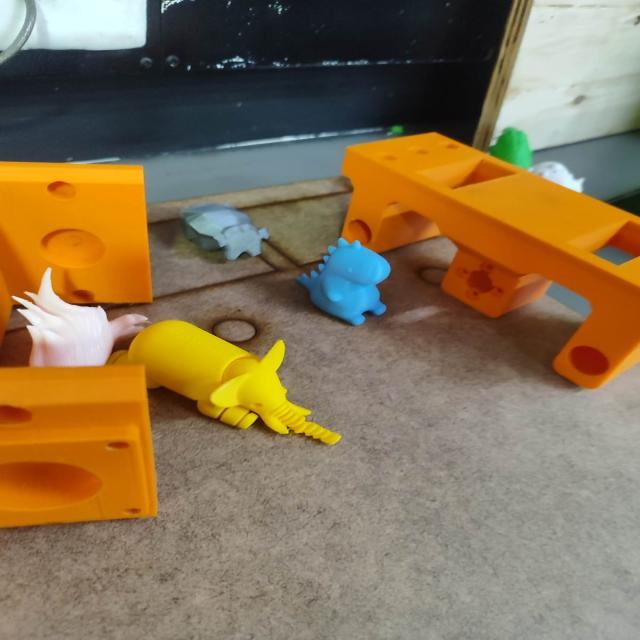DINO: (284, 226, 390, 336)
